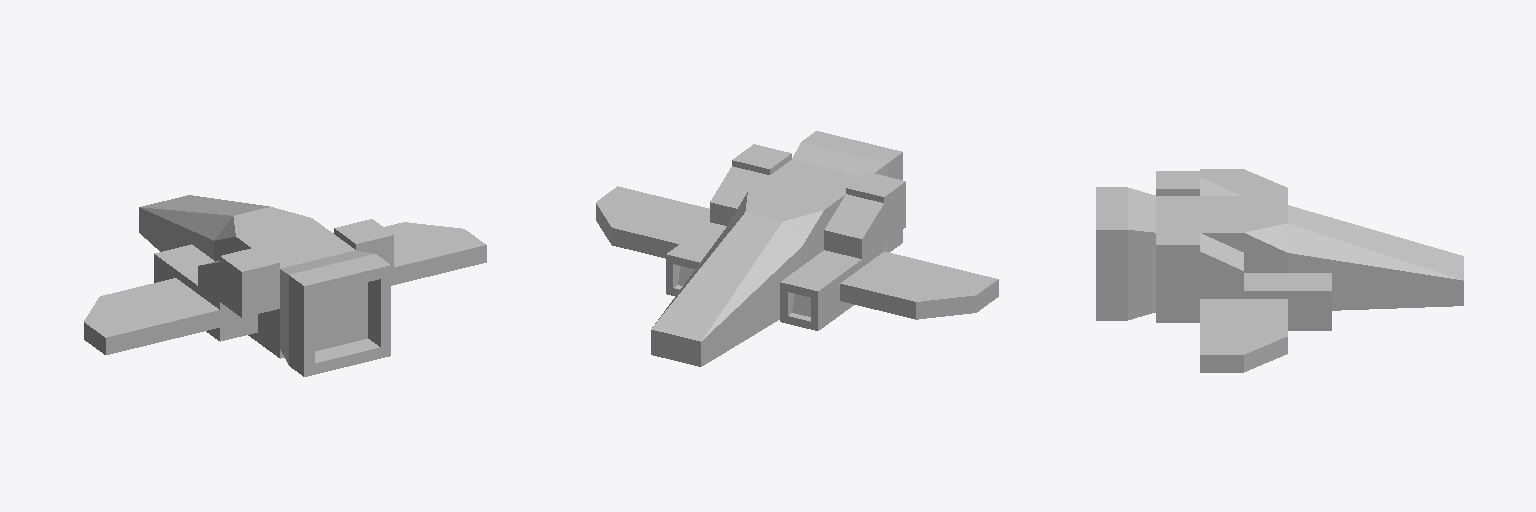
Rendered from spaceCraft1.obj.
3 renders of one model, left to right at view 1: azimuth 30°, elevation 25°; view 2: azimuth 150°, elevation 25°; view 3: azimuth 270°, elevation 25°, orthographic.
Visible parts, largest first — view 1: spaceCraft1_8angles; view 2: spaceCraft1_8angles; view 3: spaceCraft1_8angles.
Boxes of the visible parts, x1=… form: spaceCraft1_8angles: x1=84, y1=195, x2=486, y2=376; spaceCraft1_8angles: x1=596, y1=131, x2=998, y2=366; spaceCraft1_8angles: x1=1096, y1=169, x2=1463, y2=372.
Bounding box in the file's own units: 19.75 × 4.75 × 16.5.